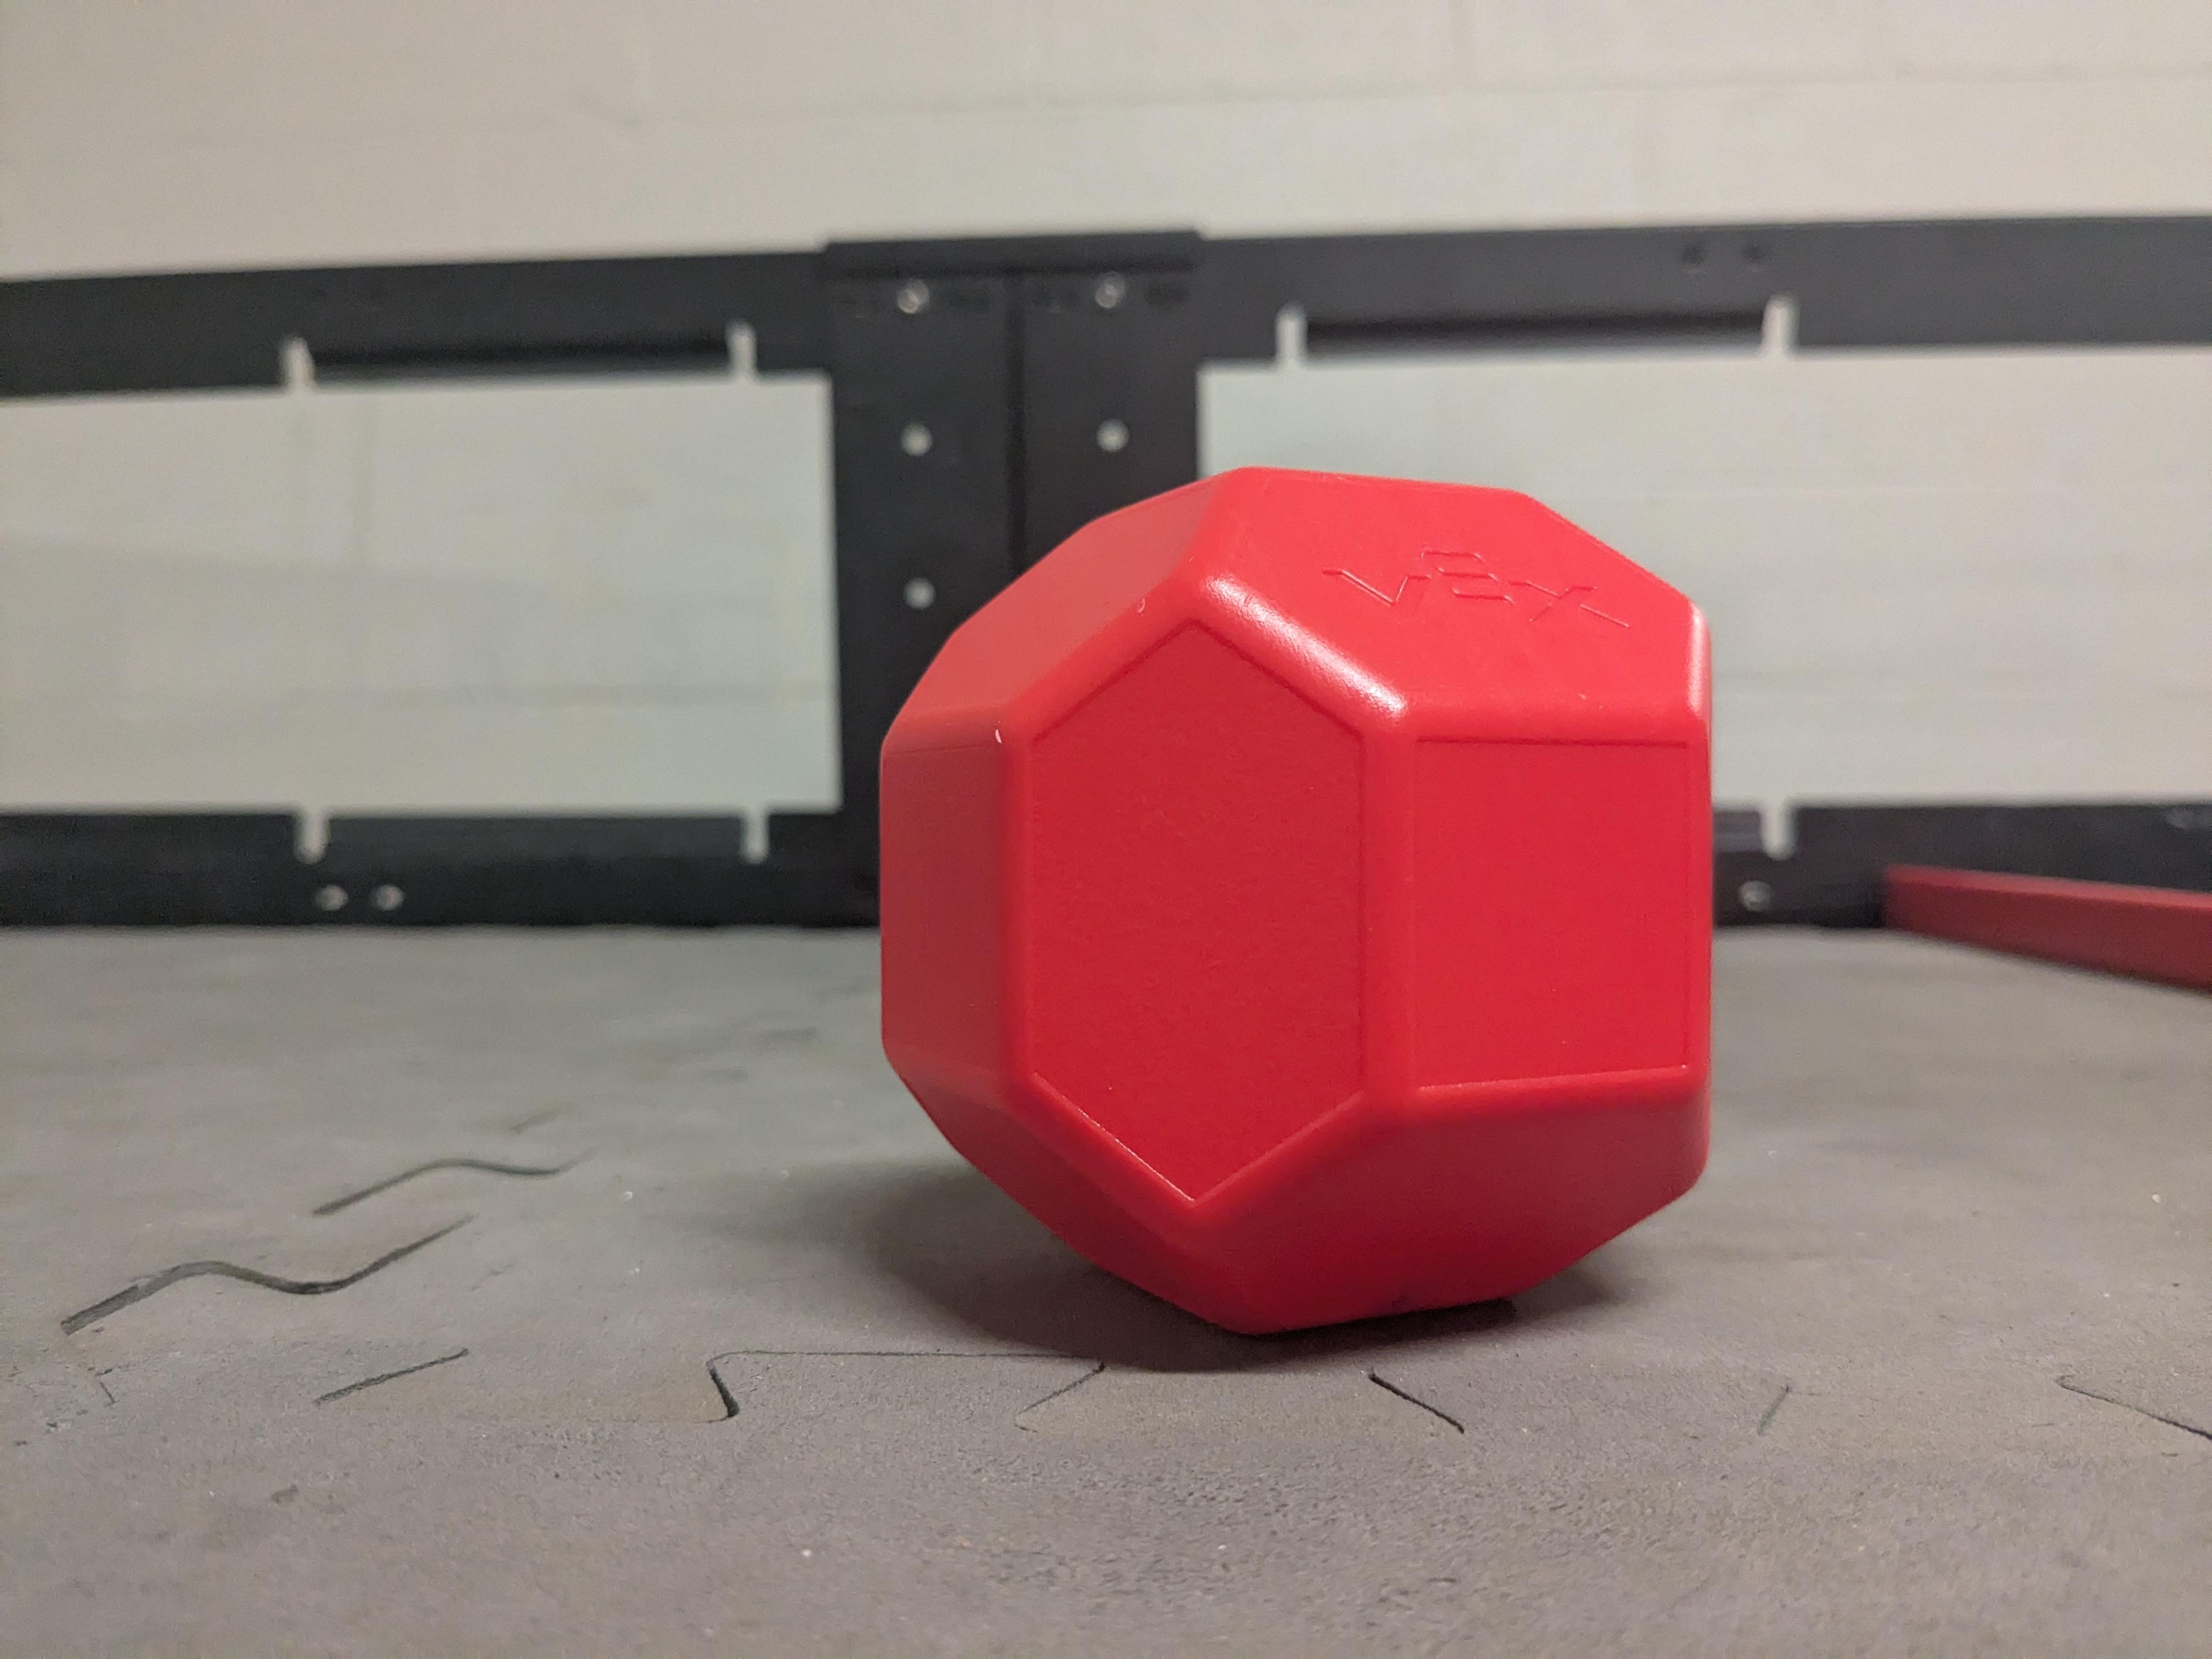Vex-Pieces-RED: (874, 477, 1728, 1345)
